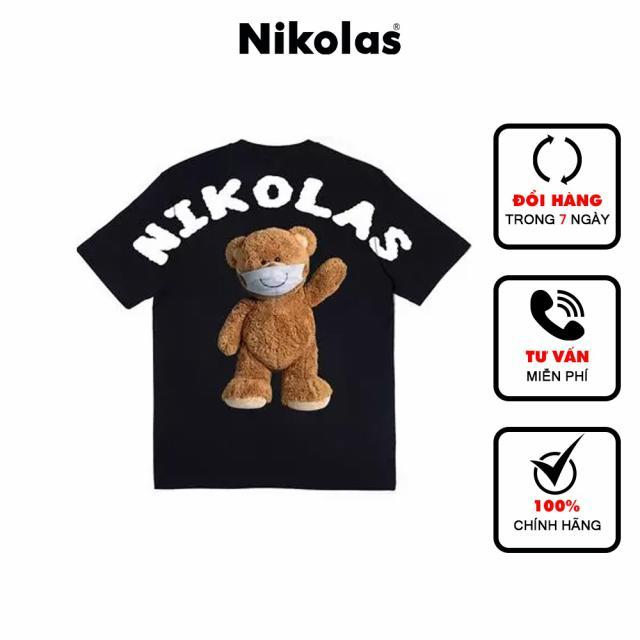Shirt: (72, 138, 474, 496)
